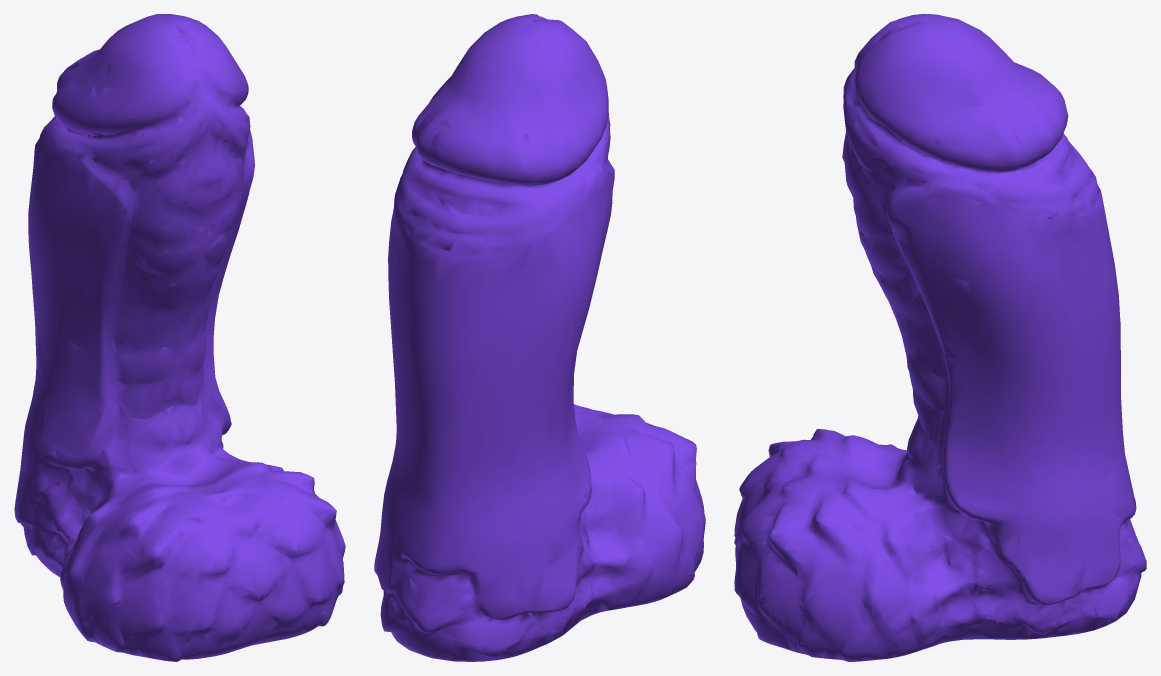
File: large-flat-ar.glb
3 renders of one model, left to right at view 1: azimuth 30°, elevation 25°; view 2: azimuth 150°, elevation 25°; view 3: azimuth 270°, elevation 25°, orthographic. The views are drawn at different scales.
Bounding box in the file's own units: 0.1366 × 0.2908 × 0.1868.
